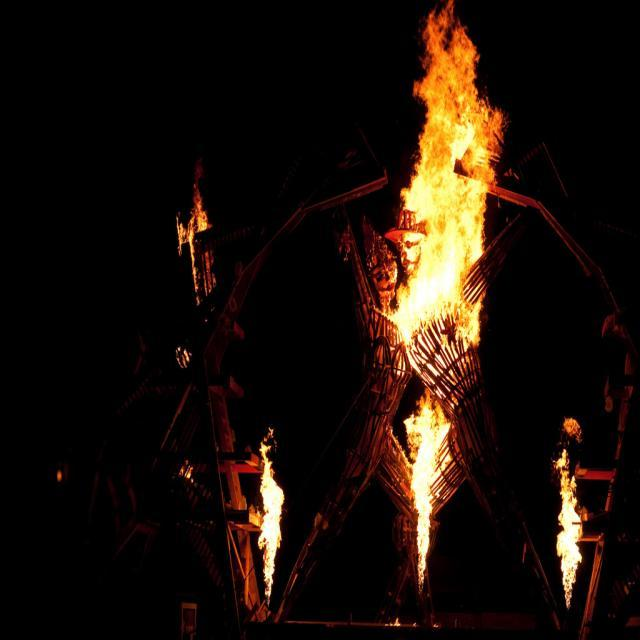Fire: (408, 188, 468, 314), (427, 56, 478, 182), (418, 424, 433, 566), (260, 477, 280, 580), (562, 498, 578, 584)
